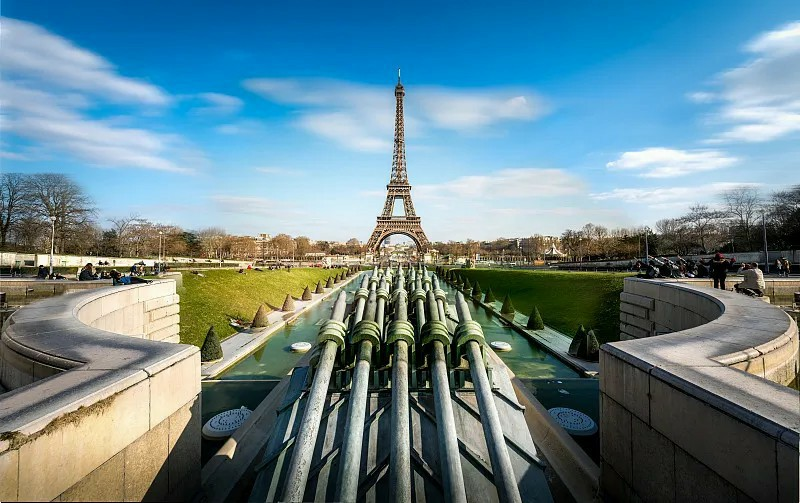Eiffel: (365, 68, 432, 253)
